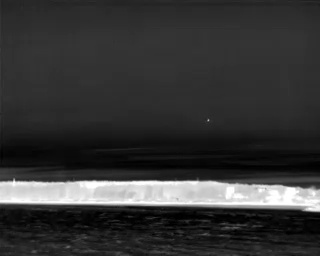HELICOPTER: (204, 116, 212, 125)
